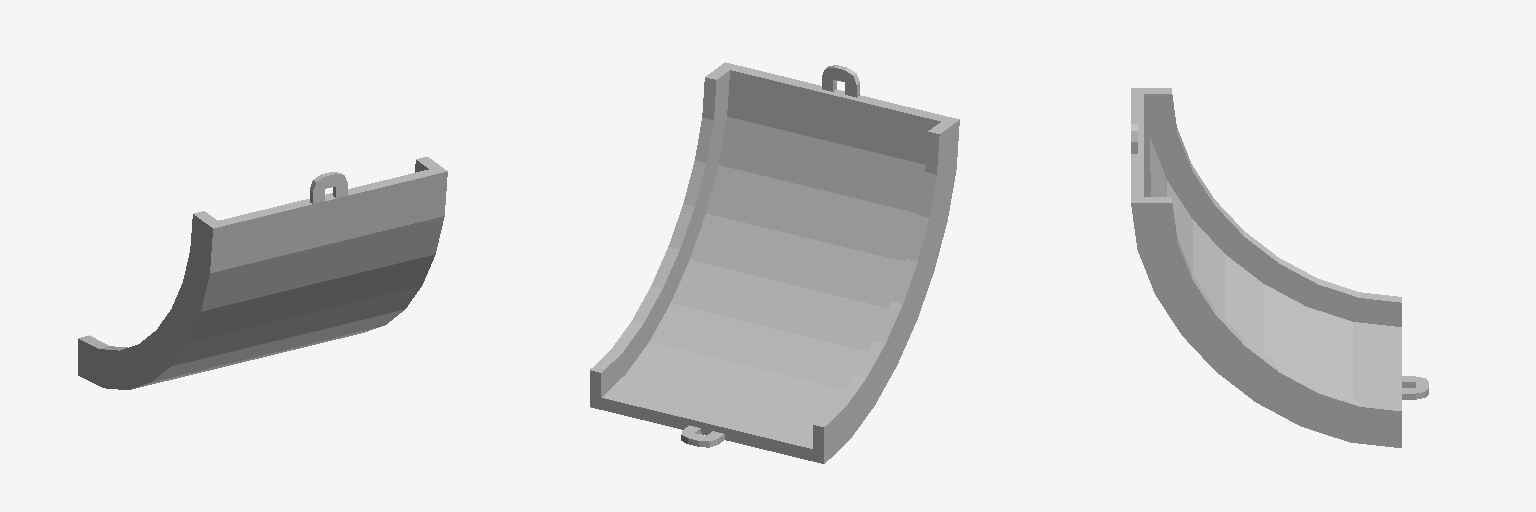
File: track-striped-wide-straight-bend.obj
The picture shows the model from 3 angles: view 1: azimuth 30°, elevation 25°; view 2: azimuth 150°, elevation 25°; view 3: azimuth 270°, elevation 25°; orthographic projection.
Visible parts, largest first — view 1: track-striped-wide-straight-bend; view 2: track-striped-wide-straight-bend; view 3: track-striped-wide-straight-bend.
Boxes of the visible parts, box(x1,y1,x2,y2) form: track-striped-wide-straight-bend: box(78, 157, 447, 389); track-striped-wide-straight-bend: box(590, 62, 959, 463); track-striped-wide-straight-bend: box(1131, 88, 1428, 447).
Size of the model in its own units: 2 by 2.2 by 2.2.